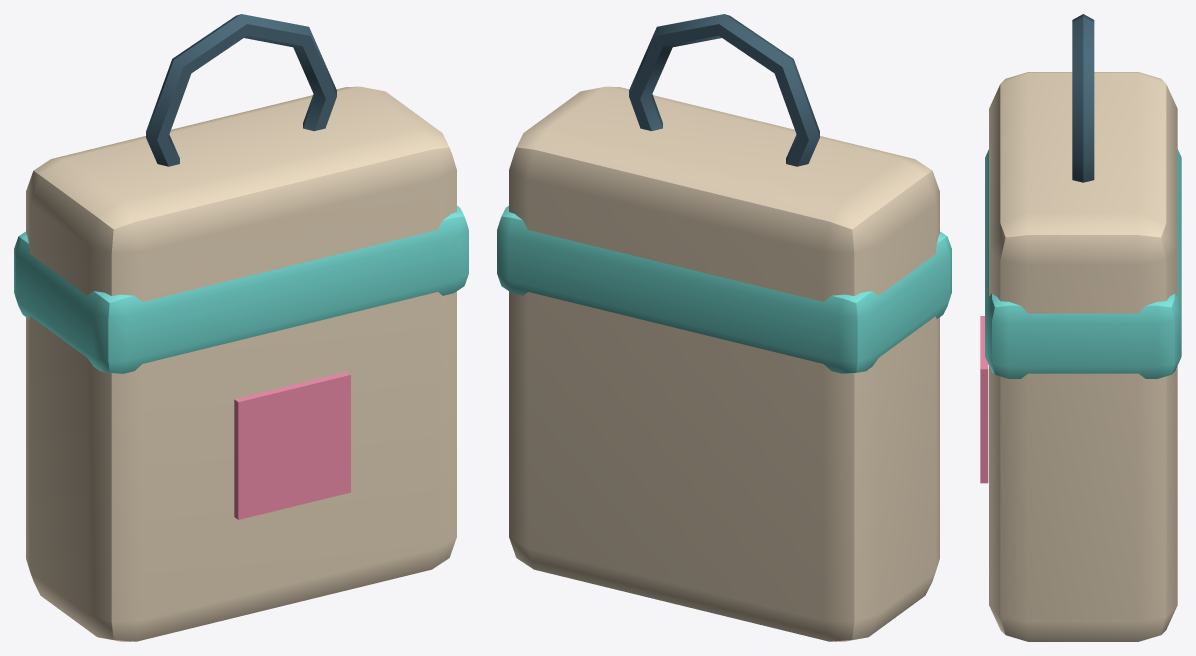
File: ShopBag.fbx
The picture shows the model from 3 angles, left to right: view 1: azimuth 30°, elevation 25°; view 2: azimuth 150°, elevation 25°; view 3: azimuth 270°, elevation 25°; orthographic projection. The views are drawn at different scales.
Parts seen in each view (by area): view 1: ShopBag; view 2: ShopBag; view 3: ShopBag.
Part boxes in pixels (x1,y1,x2,y2): ShopBag: (14, 14, 468, 641); ShopBag: (497, 14, 951, 641); ShopBag: (980, 14, 1181, 641).
Size of the model in its own units: 0.265 by 0.388 by 0.128.
